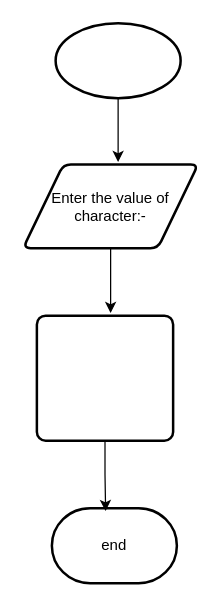
This 220x605 diagram has some shape labels left out. The centre of each missing label's shape, as x and y in pixels:
print(ord(character)): point (104, 377)
start: point (117, 60)
